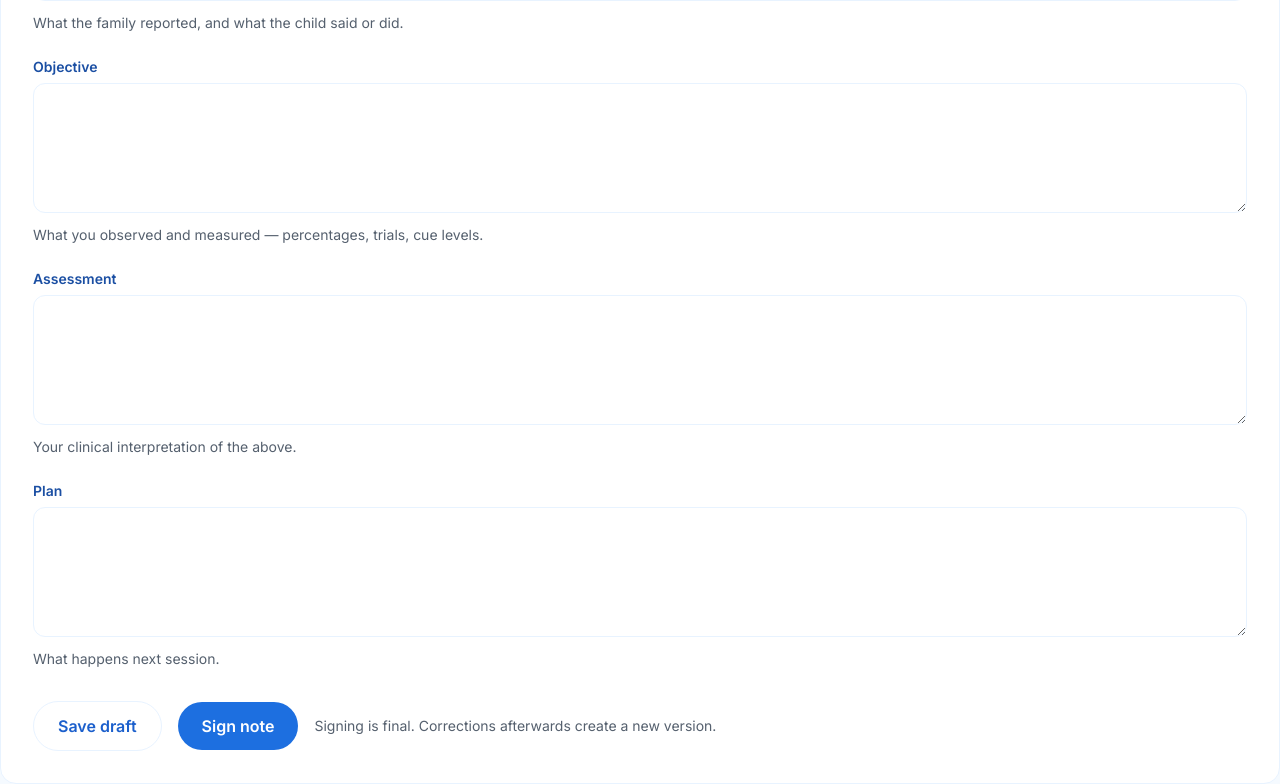
NoteEditor while an action is in flight › will not start a save while a signature is in flight
(page scrolled)
Click the button "Sign note" at (238, 726), box [178,702,298,750]
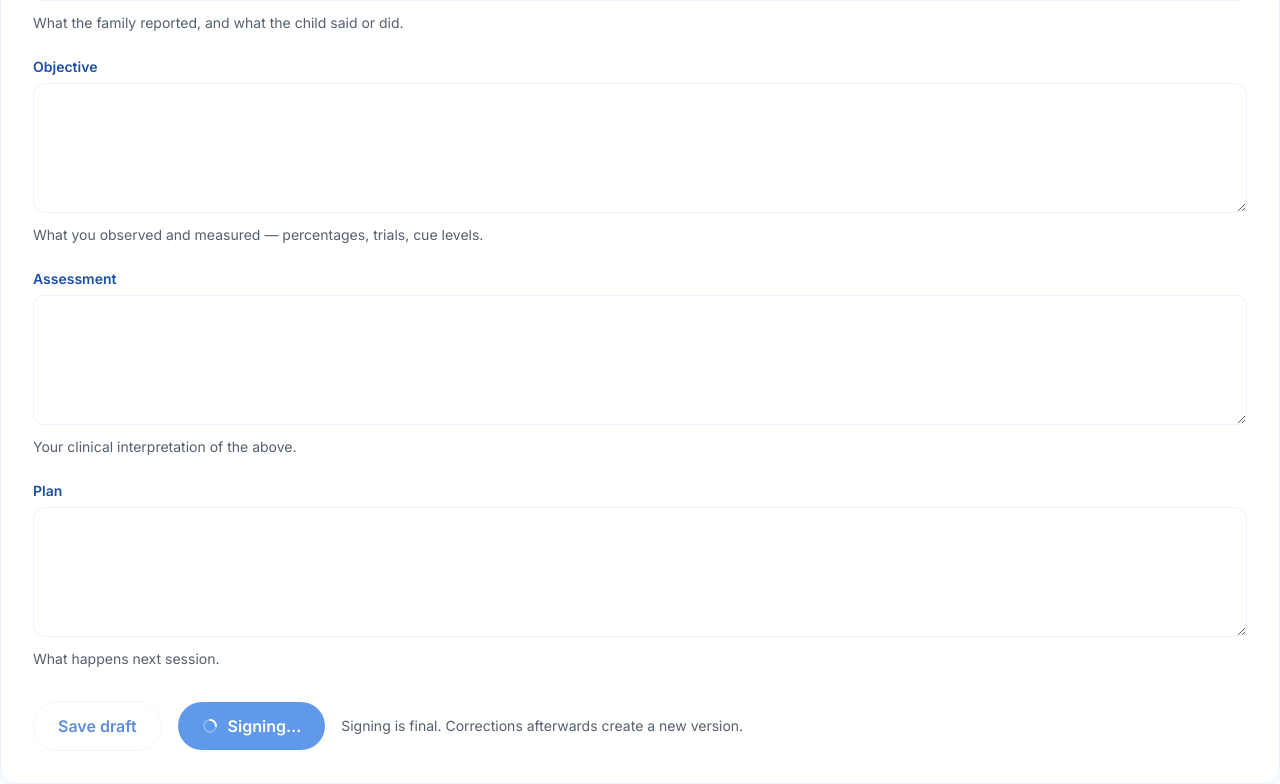
Click the button "Save draft" at (97, 726), box [33,701,162,751]
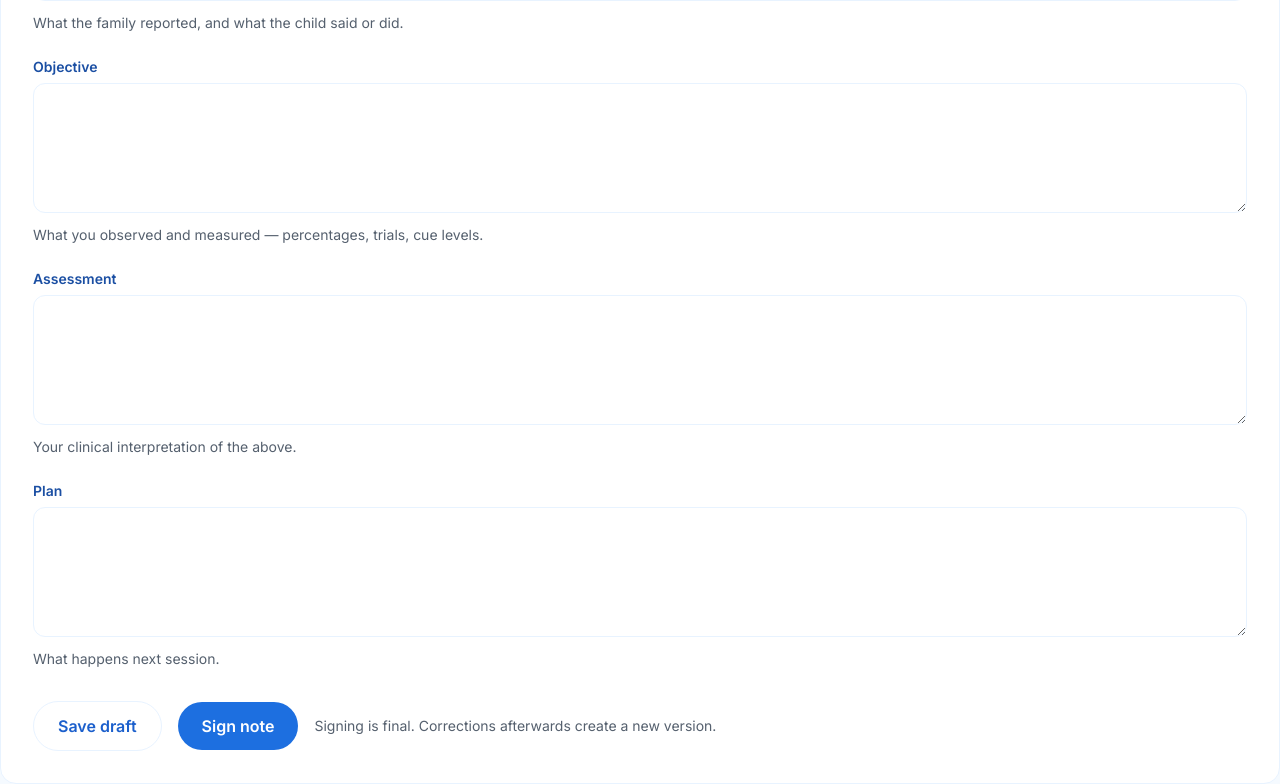
Result: the button "Sign note" is enabled at [178,702,298,750]
